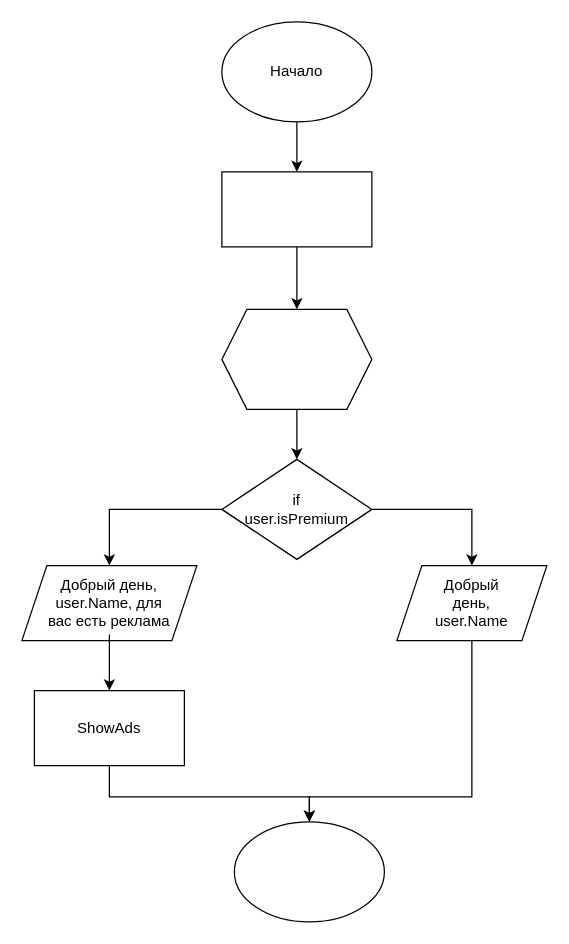
The diagram is 569 pixels wide and 944 high, and some of its shapes have lost their labels. The centre of each missing label's shape, as x and y in pixels:
"foreach user in users" belongs at (x=296, y=358).
"users (Массив пользователей)" belongs at (x=296, y=209).
"Конец" belongs at (x=308, y=871).
